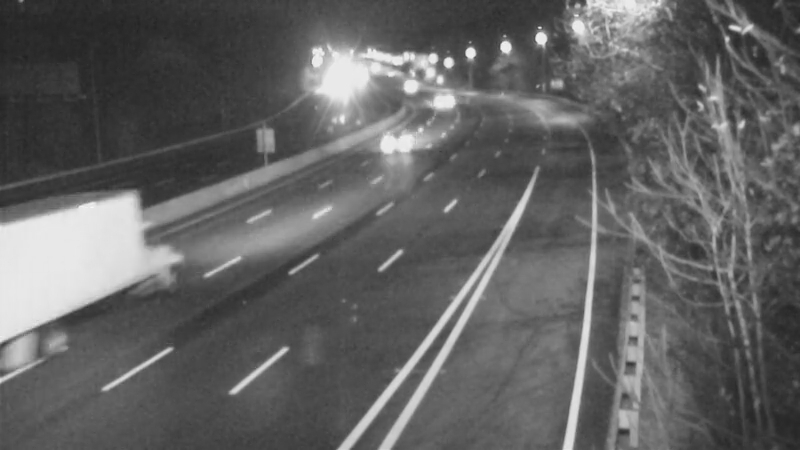vehicle: (46, 238, 126, 318), (383, 60, 433, 110), (414, 74, 464, 124), (371, 121, 421, 171)
